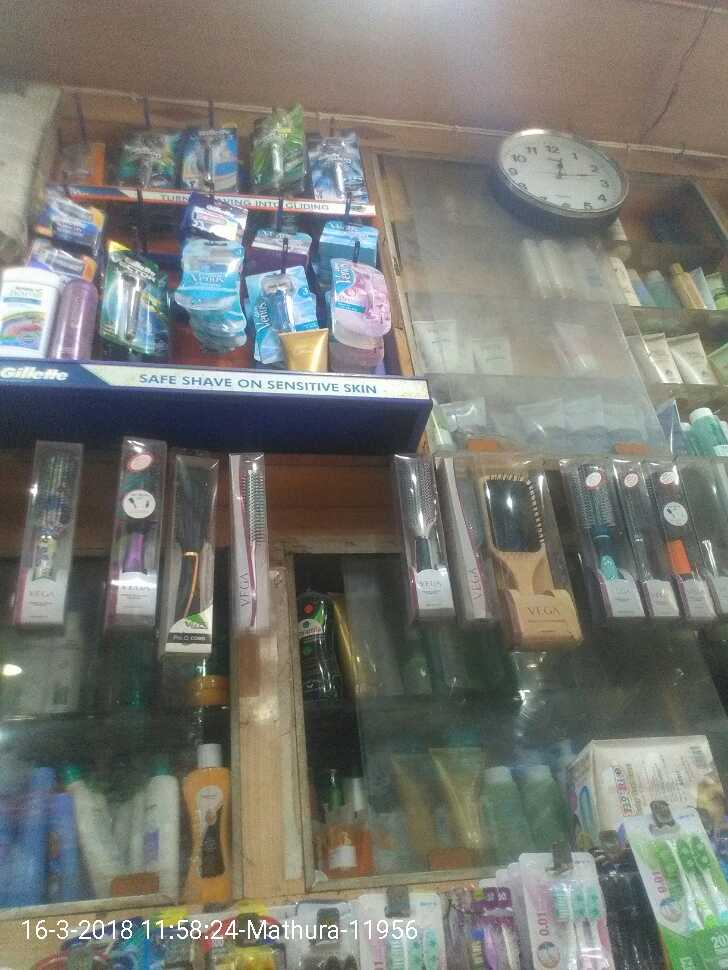beauty: (320, 250, 394, 343), (248, 262, 313, 360), (107, 237, 158, 359), (251, 93, 305, 194), (180, 121, 238, 196), (114, 121, 169, 197), (302, 131, 360, 203)
